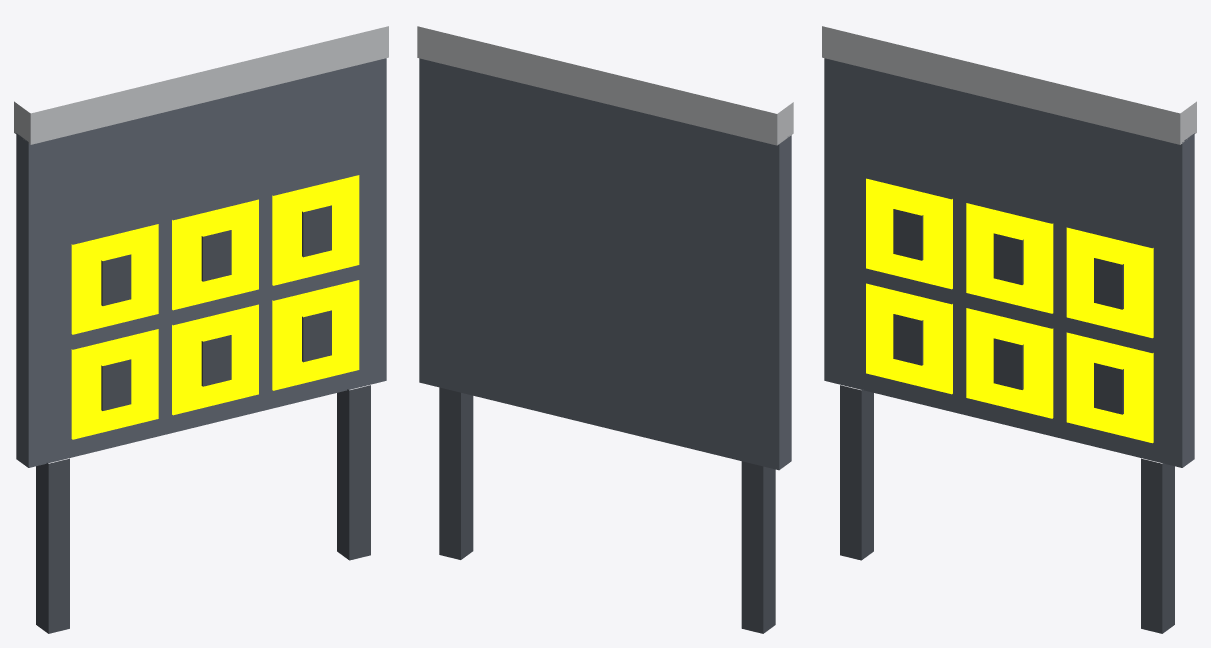
File: ext_notice_board_01.glb
The picture shows the model from 3 angles, left to right: view 1: azimuth 30°, elevation 25°; view 2: azimuth 150°, elevation 25°; view 3: azimuth 330°, elevation 25°; orthographic projection.
Parts seen in each view (by area): view 1: Board, Tiles, Header, Legs, Tile_Glyphs; view 2: Board, Header, Legs; view 3: Board, Tiles, Header, Legs, Tile_Glyphs.
Part boxes in pixels (<box>): Board: <box>16,58,386,467</box>; Tiles: <box>71,175,359,439</box>; Header: <box>14,26,388,144</box>; Legs: <box>36,385,370,633</box>; Tile_Glyphs: <box>101,205,331,410</box>; Board: <box>419,58,791,470</box>; Header: <box>417,26,793,145</box>; Legs: <box>439,387,775,633</box>; Board: <box>824,58,1194,467</box>; Tiles: <box>866,178,1153,443</box>; Header: <box>822,26,1196,144</box>; Legs: <box>840,385,1174,633</box>; Tile_Glyphs: <box>893,209,1123,414</box>.
Size of the model in its own units: 1 by 1.4 by 0.082.
